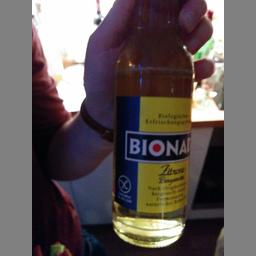soda: (113, 0, 194, 248)
